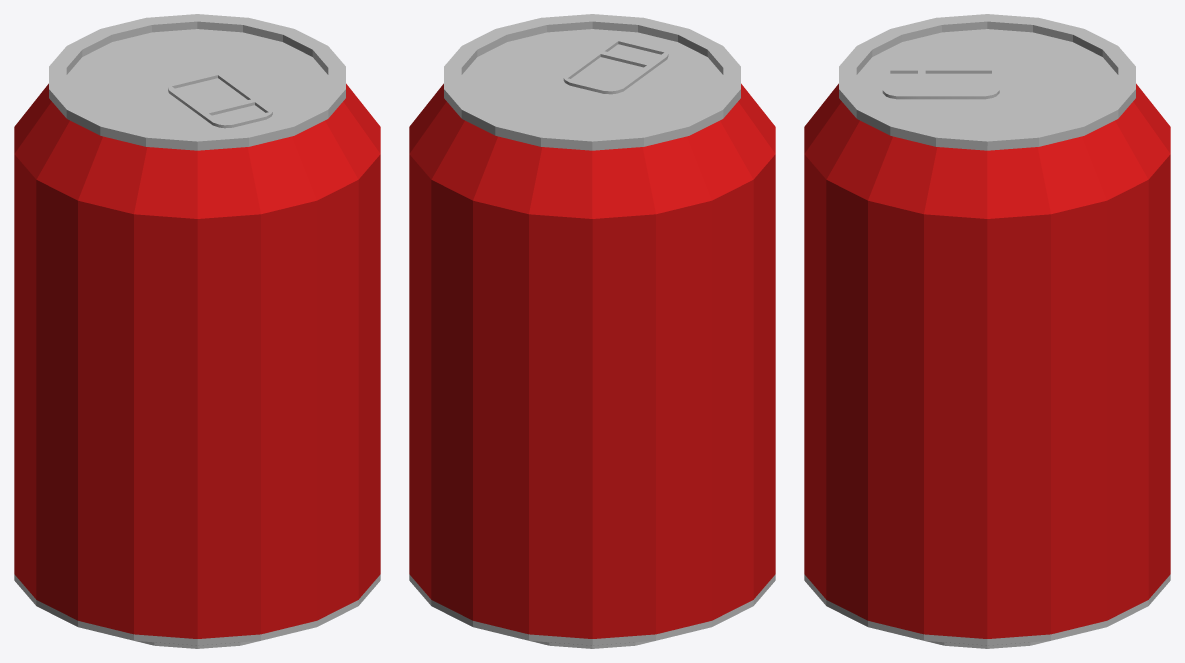
File: Soda can.gltf
3 renders of one model, left to right at view 1: azimuth 30°, elevation 25°; view 2: azimuth 150°, elevation 25°; view 3: azimuth 270°, elevation 25°, orthographic.
Parts seen in each view (by area): view 1: node-0; view 2: node-0; view 3: node-0.
Part boxes in pixels (bbox=[...]): node-0: bbox=[14, 14, 380, 648]; node-0: bbox=[409, 14, 775, 648]; node-0: bbox=[804, 14, 1170, 648].
Size of the model in its own units: 223178 by 342935 by 219787.
